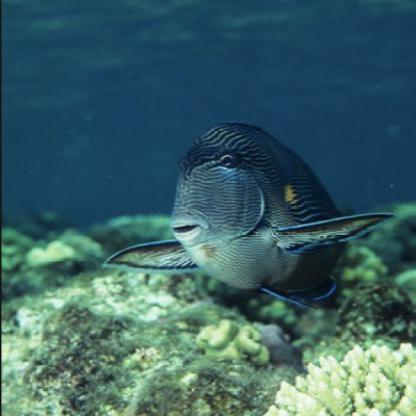surgeon: (103, 122, 400, 311)
